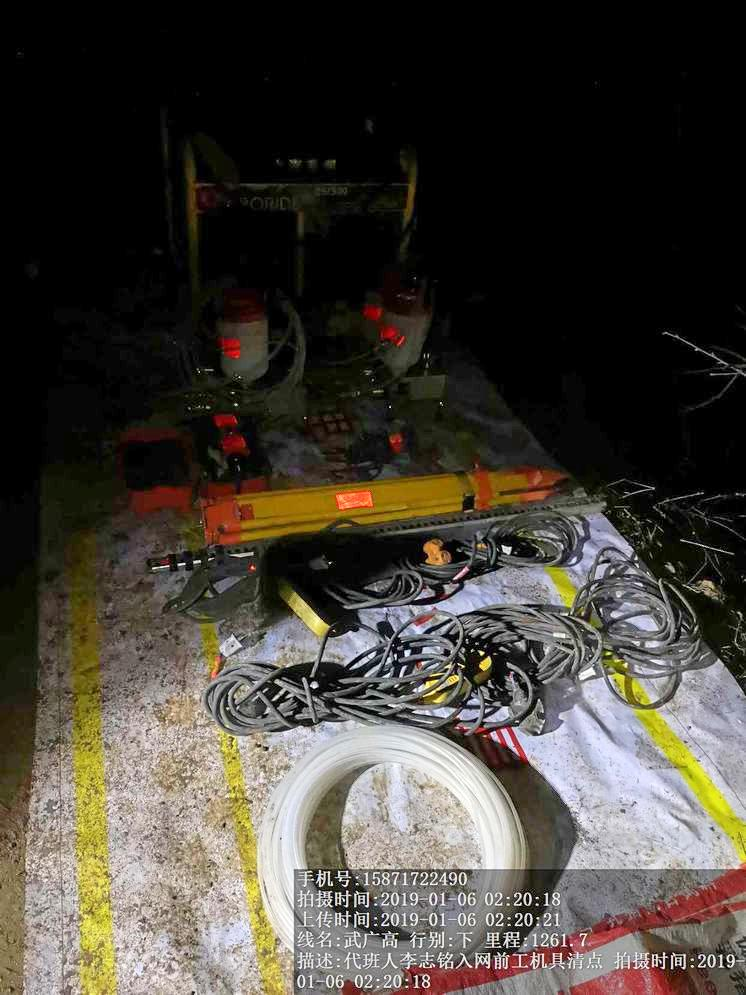SG: (245, 730, 541, 877)
